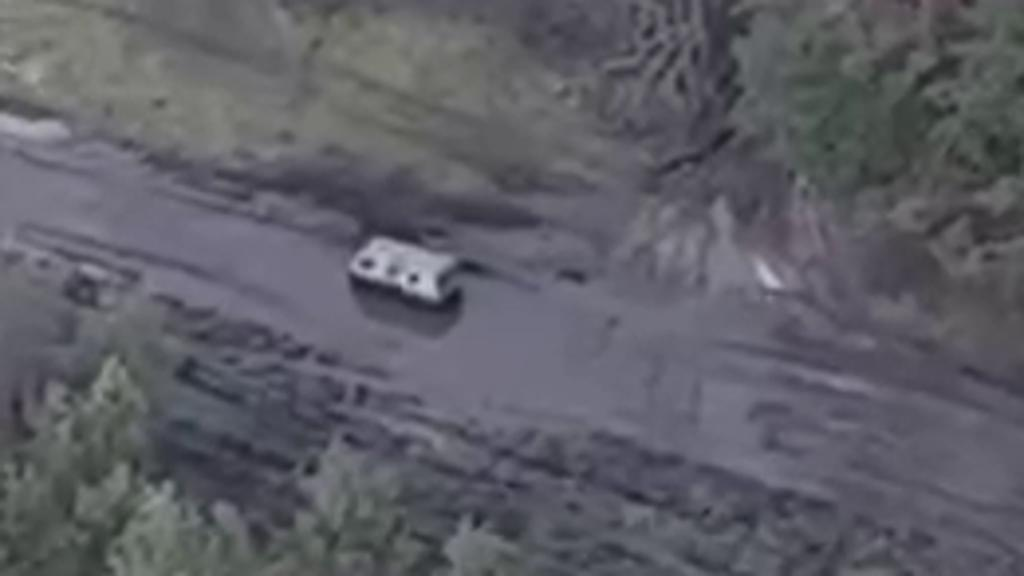CAR: (348, 230, 456, 308)
